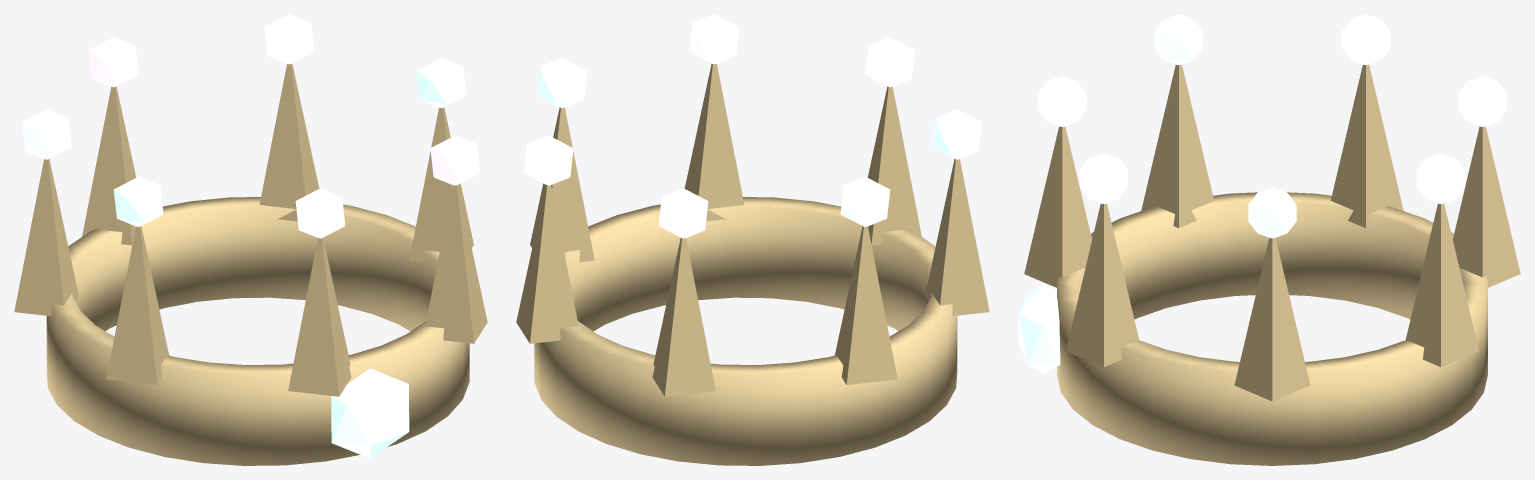
The model's file is relic_11.glb.
3 renders of one model, left to right at view 1: azimuth 30°, elevation 25°; view 2: azimuth 150°, elevation 25°; view 3: azimuth 270°, elevation 25°, orthographic.
Visible parts, largest first — view 1: Cylinder; view 2: Cylinder; view 3: Cylinder.
Boxes of the visible parts, x1,y1,x2,y2 form: Cylinder: (14,14,487,465); Cylinder: (516,14,989,465); Cylinder: (1018,14,1520,465).
Bounding box in the file's own units: 1.06 × 0.6734 × 1.1.
